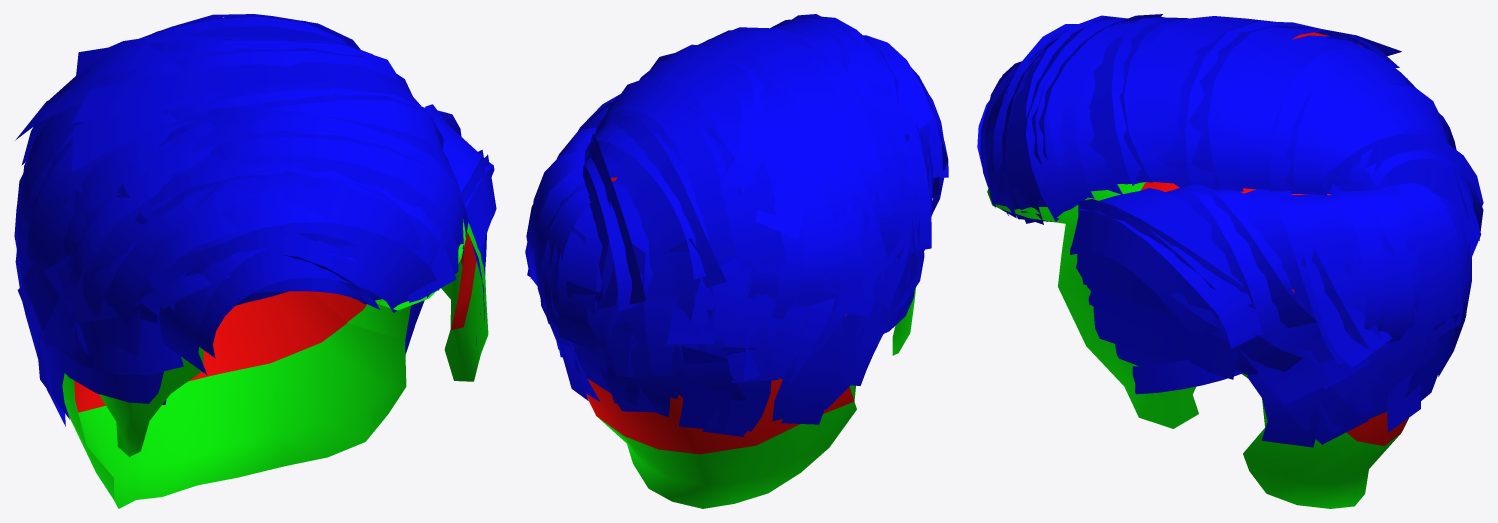
Rendered from hair_002.obj.
The picture shows the model from 3 angles, left to right: view 1: azimuth 30°, elevation 25°; view 2: azimuth 150°, elevation 25°; view 3: azimuth 270°, elevation 25°; orthographic projection. The views are drawn at different scales.
Bounding box in the file's own units: 18.72 × 20.73 × 21.11.
